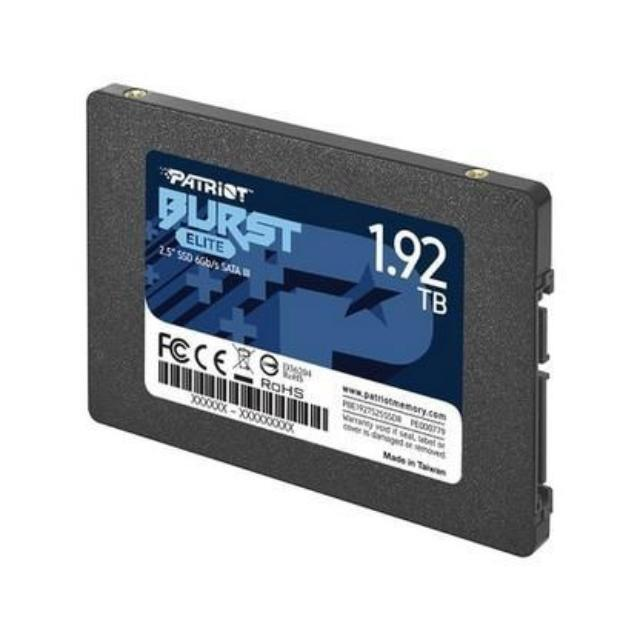DISK: (71, 68, 564, 560)
